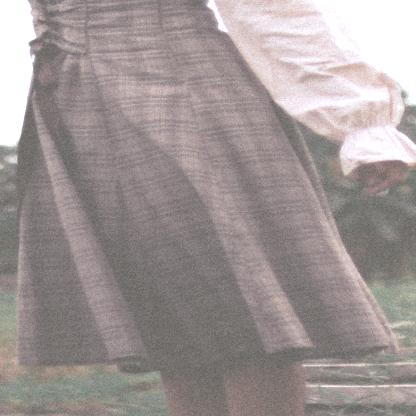dress: (3, 0, 407, 382)
